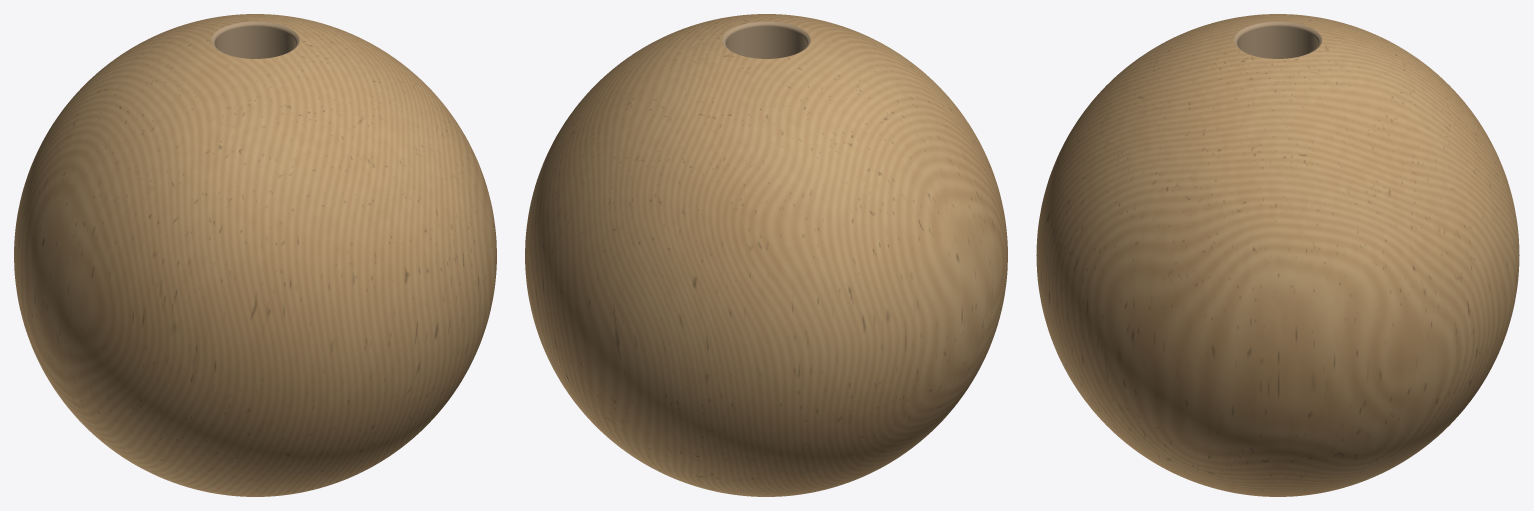
Rendered from wood-laoshan-sandalwood-6mm.glb.
3 views of the same model, side by side, from view 1: azimuth 30°, elevation 25°; view 2: azimuth 150°, elevation 25°; view 3: azimuth 270°, elevation 25° (orthographic).
Parts seen in each view (by area): view 1: laoshan-sandalwood; view 2: laoshan-sandalwood; view 3: laoshan-sandalwood.
Boxes of the visible parts, box(x1,y1,x2,y2) form: laoshan-sandalwood: box(14, 14, 496, 496); laoshan-sandalwood: box(525, 14, 1007, 496); laoshan-sandalwood: box(1036, 14, 1519, 496).
Bounding box in the file's own units: 0.006 × 0.0059 × 0.006.
Materials: 2 (1 with a texture image).
